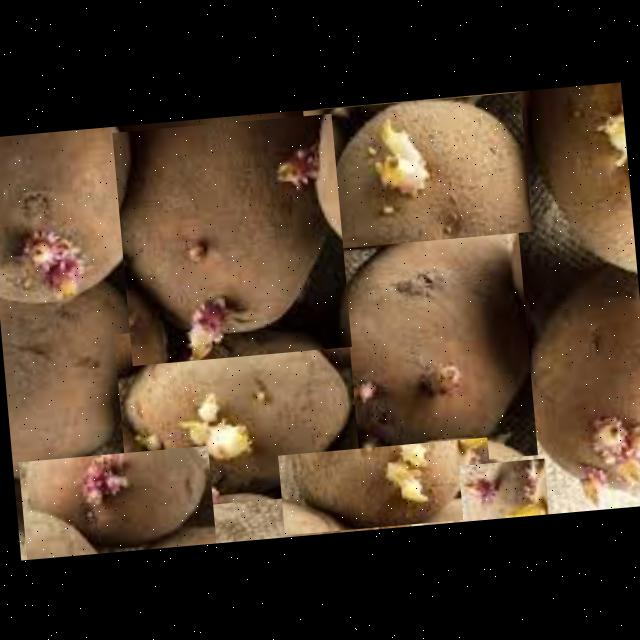Sprouted potato: (279, 208, 536, 474), (110, 113, 351, 364), (112, 312, 361, 510), (500, 254, 640, 515), (302, 91, 531, 249), (0, 121, 182, 302), (17, 444, 215, 558), (276, 436, 492, 534), (534, 86, 636, 282), (457, 457, 548, 520)
